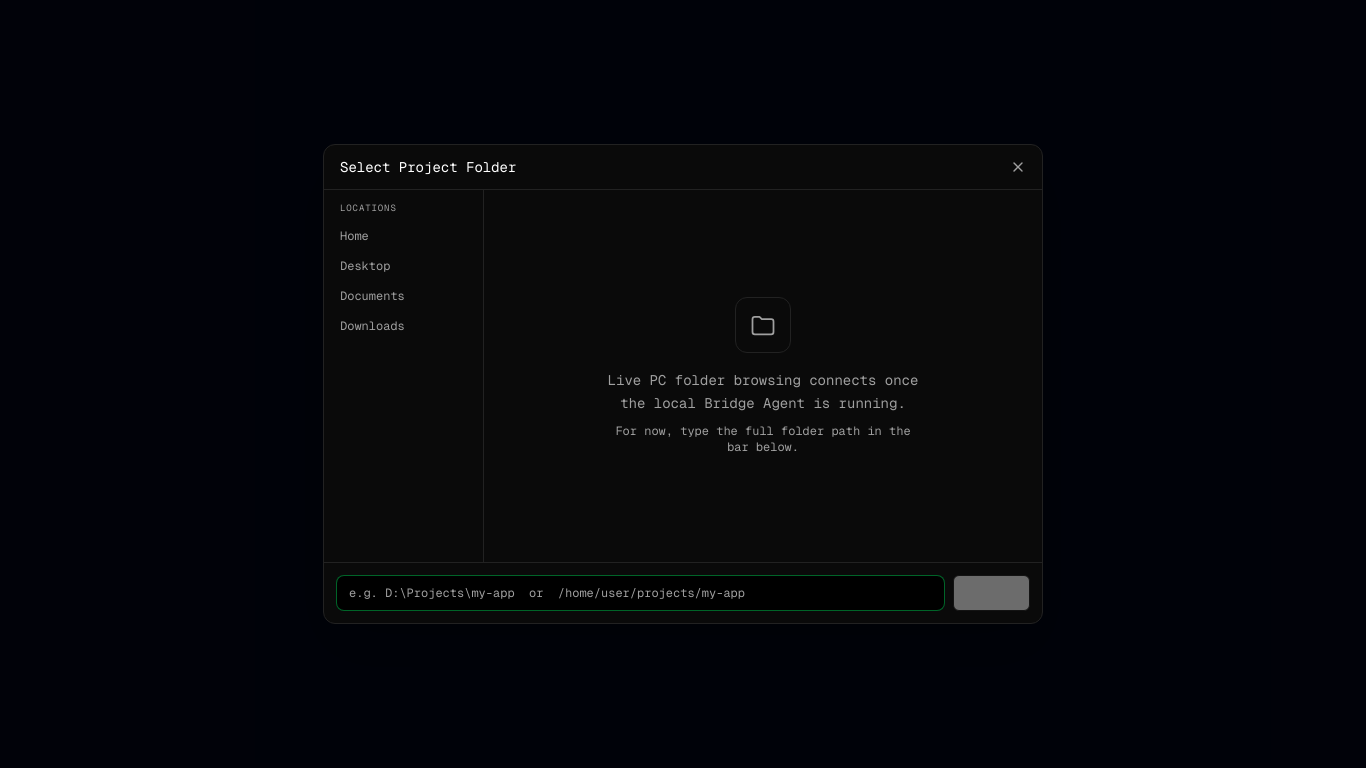
it: BrowsePCModal quick locations and state updates › T2.3: rejects invalid path characters and sets error message
The image size is (1366, 768).
Type "C:\\Invalid|Path?*<>" into the field with placeholder "e.g. D:\\Projects\\my-app or /home/user/projects/my-app".
click(640, 593); type("C:\\Invalid|Path?*<>")  # box 336,575 -> 945,611
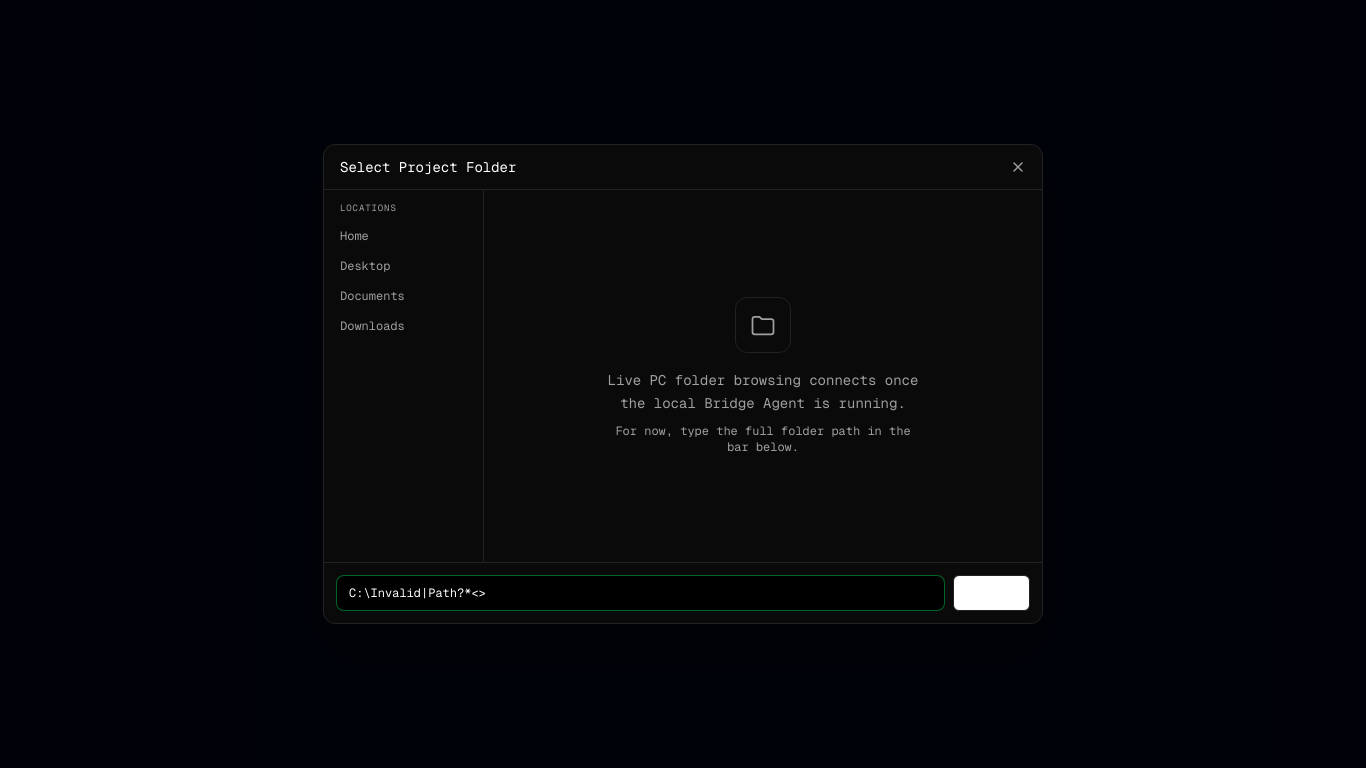
Click the button "Select".
click(991, 593)  # box 953,575 -> 1030,611
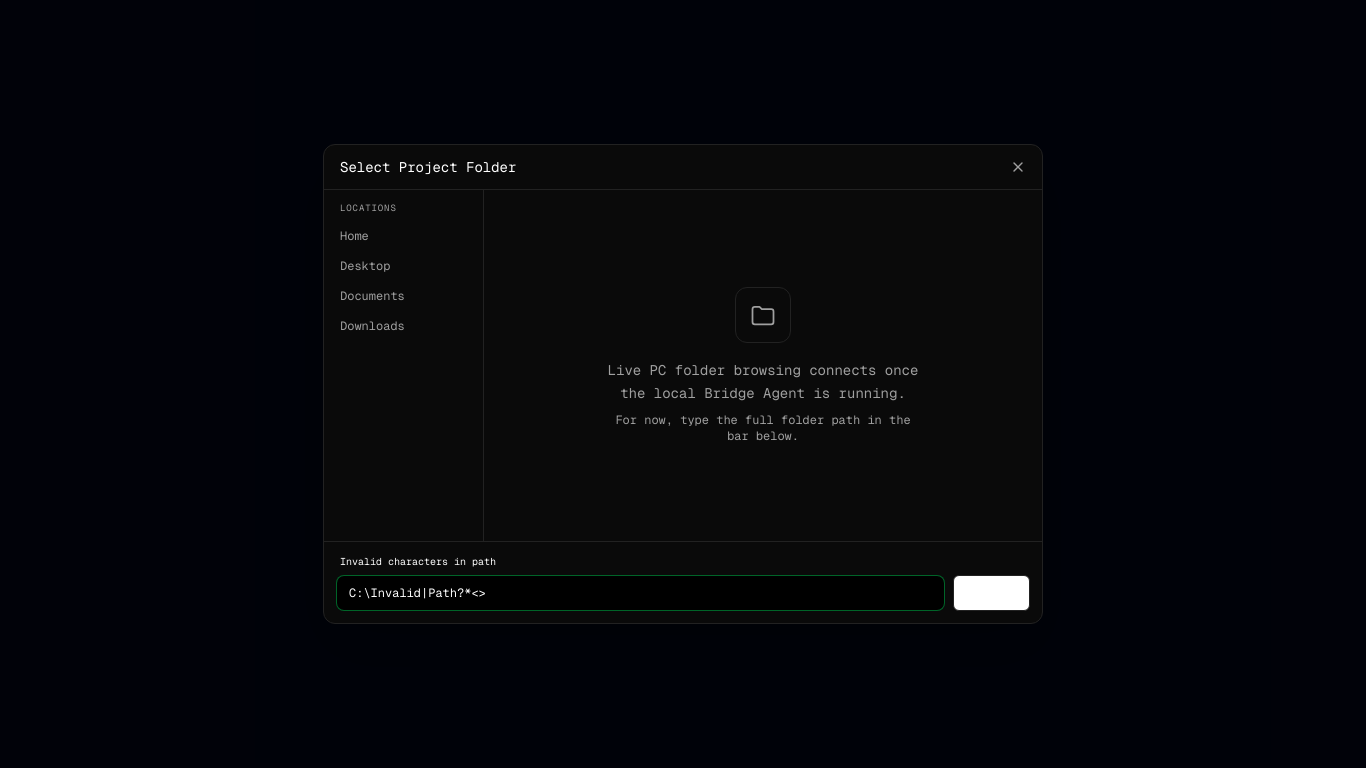
Result: the text "Invalid characters in path" is shown at 340,555 -> 496,568
